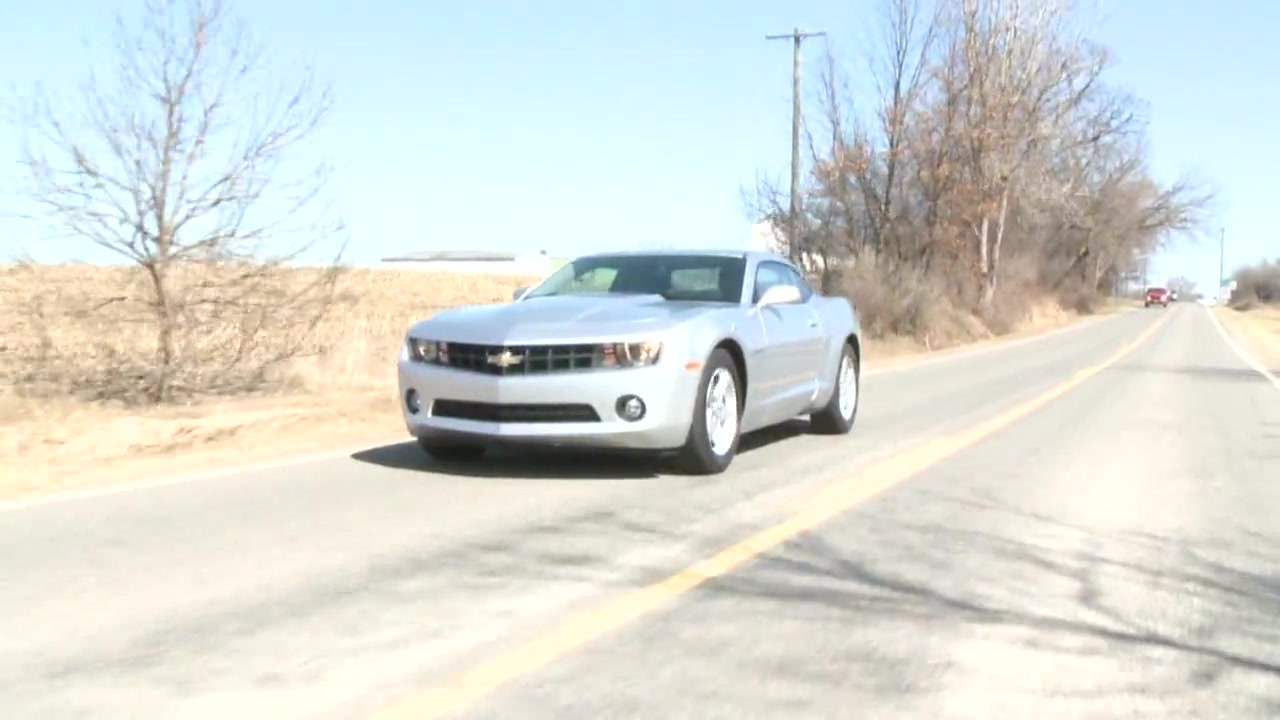car: (393, 248, 864, 478)
